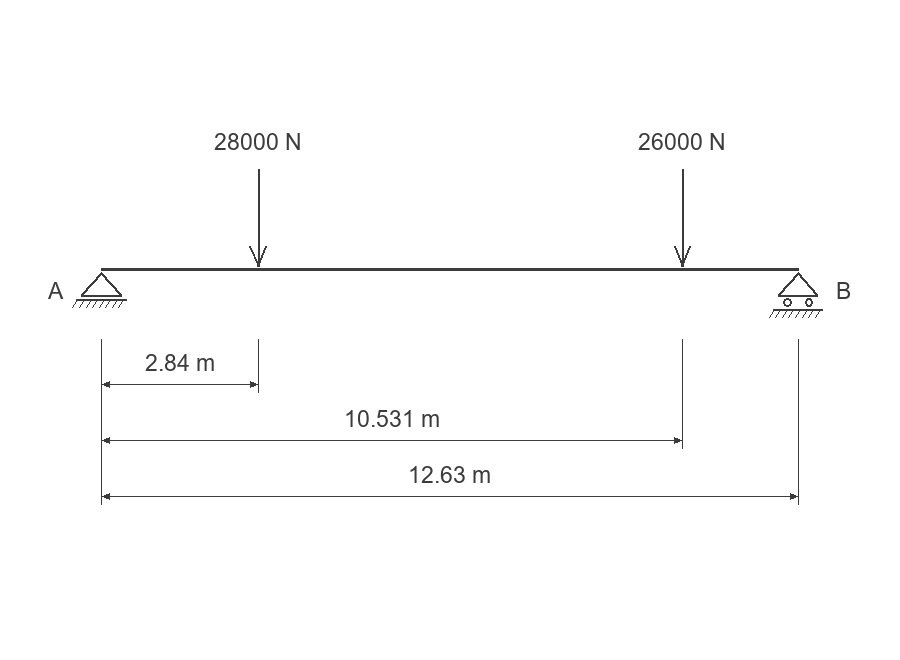pin_support: (72, 272, 127, 308)
point_load: (249, 169, 267, 267), (674, 169, 691, 267)
roller_support: (769, 272, 823, 318)
